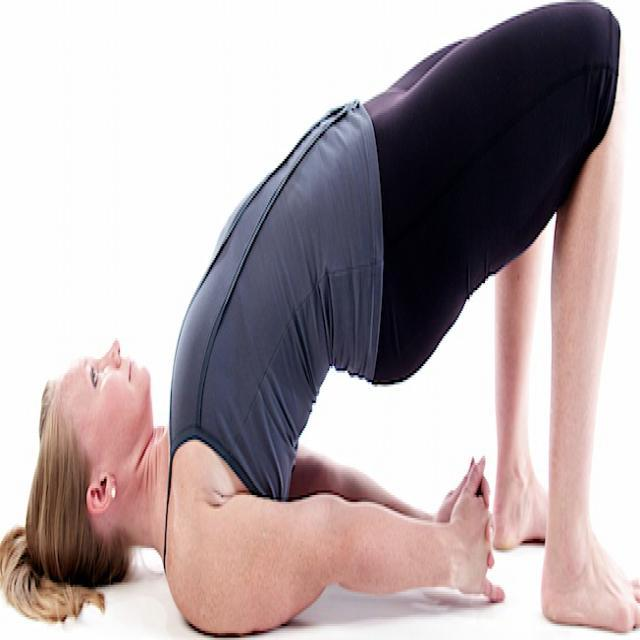yoga-pose bridge: (34, 14, 638, 632)
